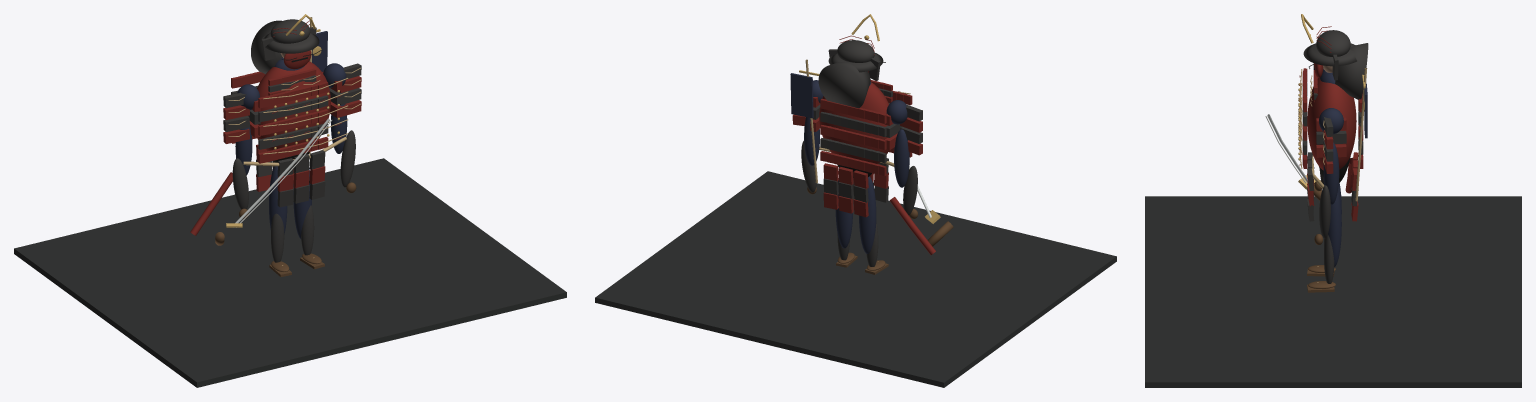
Rendered from actor-takeda-08.glb.
3 renders of one model, left to right at view 1: azimuth 30°, elevation 25°; view 2: azimuth 150°, elevation 25°; view 3: azimuth 270°, elevation 25°, orthographic. The views are drawn at different scales.
Parts seen in each view (by area): view 1: matte charcoal inspection plinth, rounded do cuirass silhouette, rear shikoro neck guard flare, segmented kabuto helmet bowl, right kote forearm guard, left kote forearm guard, wide kabuto brim, left shin greave, left hakama trouser leg, lacquered saya scabbard at left hip, right shin greave; view 2: matte charcoal inspection plinth, rear shikoro neck guard flare, rounded do cuirass silhouette, cloth sashimono banner panel, left hakama trouser leg, left armored upper arm, segmented kabuto helmet bowl, right hakama trouser leg, left kote forearm guard, right armored upper arm, lacquered saya scabbard at left hip; view 3: matte charcoal inspection plinth, rounded do cuirass silhouette, rear shikoro neck guard flare, segmented kabuto helmet bowl, right hakama trouser leg, wide kabuto brim, right armored upper arm, right kote forearm guard, right shin greave, right shoulder undercloth, bamboo sashimono back pole.
Part boxes in pixels (<box>): matte charcoal inspection plinth: <box>14,158,566,387</box>; rounded do cuirass silhouette: <box>257,61,330,150</box>; rear shikoro neck guard flare: <box>251,20,282,74</box>; segmented kabuto helmet bowl: <box>270,19,310,43</box>; right kote forearm guard: <box>340,130,355,187</box>; left kote forearm guard: <box>232,158,248,209</box>; wide kabuto brim: <box>261,33,319,53</box>; left shin greave: <box>271,213,284,262</box>; left hakama trouser leg: <box>269,166,287,234</box>; lacquered saya scabbard at left hip: <box>190,172,232,235</box>; right shin greave: <box>301,205,314,255</box>; matte charcoal inspection plinth: <box>595,171,1116,387</box>; rear shikoro neck guard flare: <box>818,61,870,108</box>; rounded do cuirass silhouette: <box>819,82,888,163</box>; cloth sashimono banner panel: <box>790,73,813,118</box>; left hakama trouser leg: <box>859,176,876,253</box>; left armored upper arm: <box>894,129,909,187</box>; segmented kabuto helmet bowl: <box>837,40,874,62</box>; right hakama trouser leg: <box>835,180,852,248</box>; left kote forearm guard: <box>903,166,917,215</box>; right armored upper arm: <box>804,117,819,165</box>; lacquered saya scabbard at left hip: <box>889,197,935,254</box>; matte charcoal inspection plinth: <box>1145,196,1521,387</box>; rounded do cuirass silhouette: <box>1307,78,1356,170</box>; rear shikoro neck guard flare: <box>1335,43,1368,99</box>; segmented kabuto helmet bowl: <box>1316,30,1350,56</box>; right hakama trouser leg: <box>1328,189,1341,267</box>; wide kabuto brim: <box>1303,43,1356,66</box>; right armored upper arm: <box>1323,142,1339,204</box>; right kote forearm guard: <box>1319,185,1330,238</box>; right shin greave: <box>1324,234,1334,283</box>; right shoulder undercloth: <box>1319,108,1343,134</box>; bamboo sashimono back pole: <box>1355,68,1367,201</box>.
Bounding box in the file's own units: 4.2 × 2.96 × 3.6.
